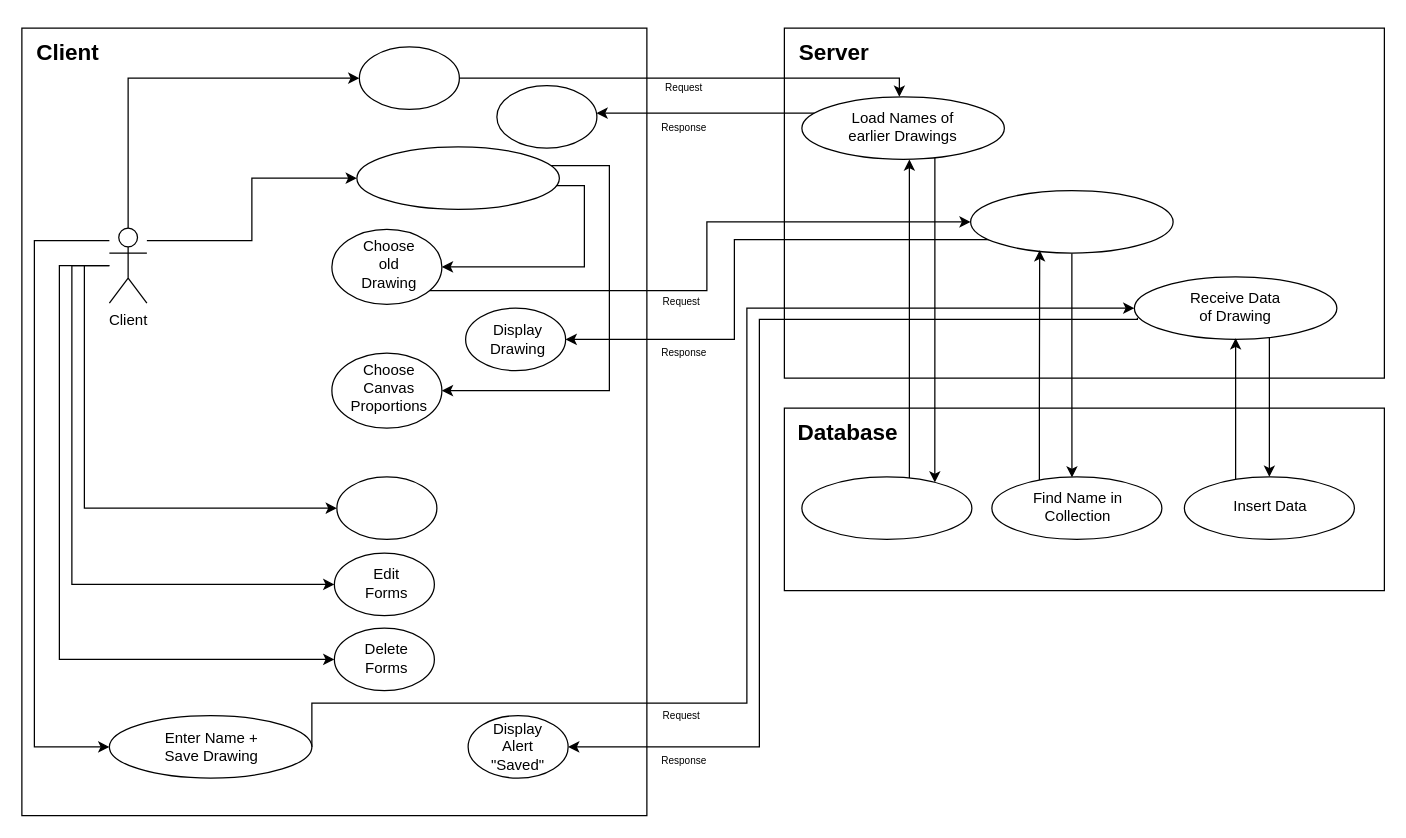
Image size: 1406x838. Some labels were removed from this diagram. The box of each missing label's shape, as (x1, y1, x2, y2) in pixels:
Create New Drawing / Load earlier Drawing: (356, 146, 559, 209)
Display Names: (496, 84, 597, 148)
Find Names of Drawings: (801, 476, 972, 539)
Load Data of specific Drawing: (969, 189, 1173, 253)
Select Forms: (336, 476, 437, 539)
Start: (358, 46, 459, 109)
